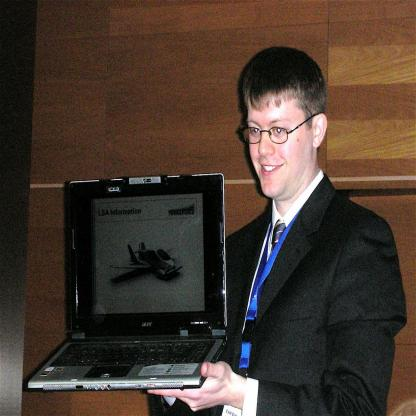board: (26, 173, 229, 393)
